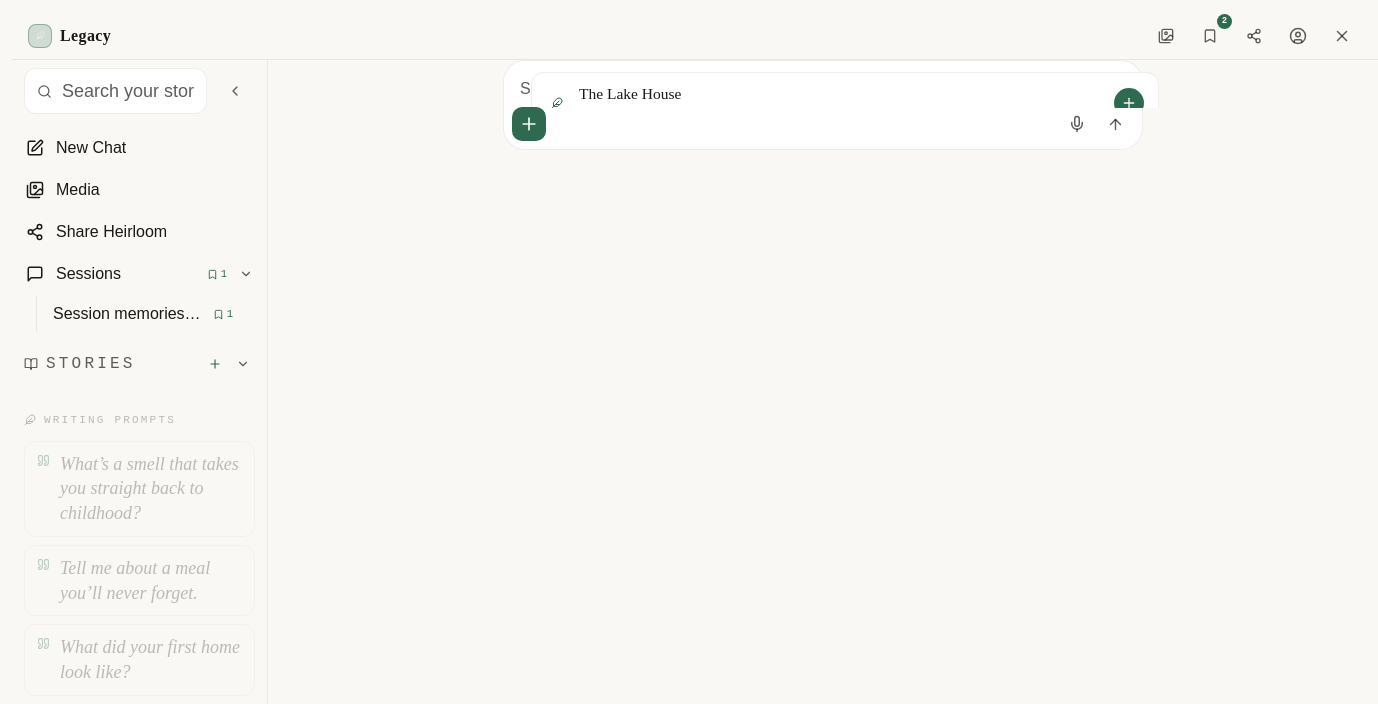
Scenario: Session memories panel — desktop › opening Media closes the session memories panel, and opening the session memories panel closes Media
(page scrolled)
Click the button named "Memories from this chat" at [1210, 36], box [1190,16,1230,56]
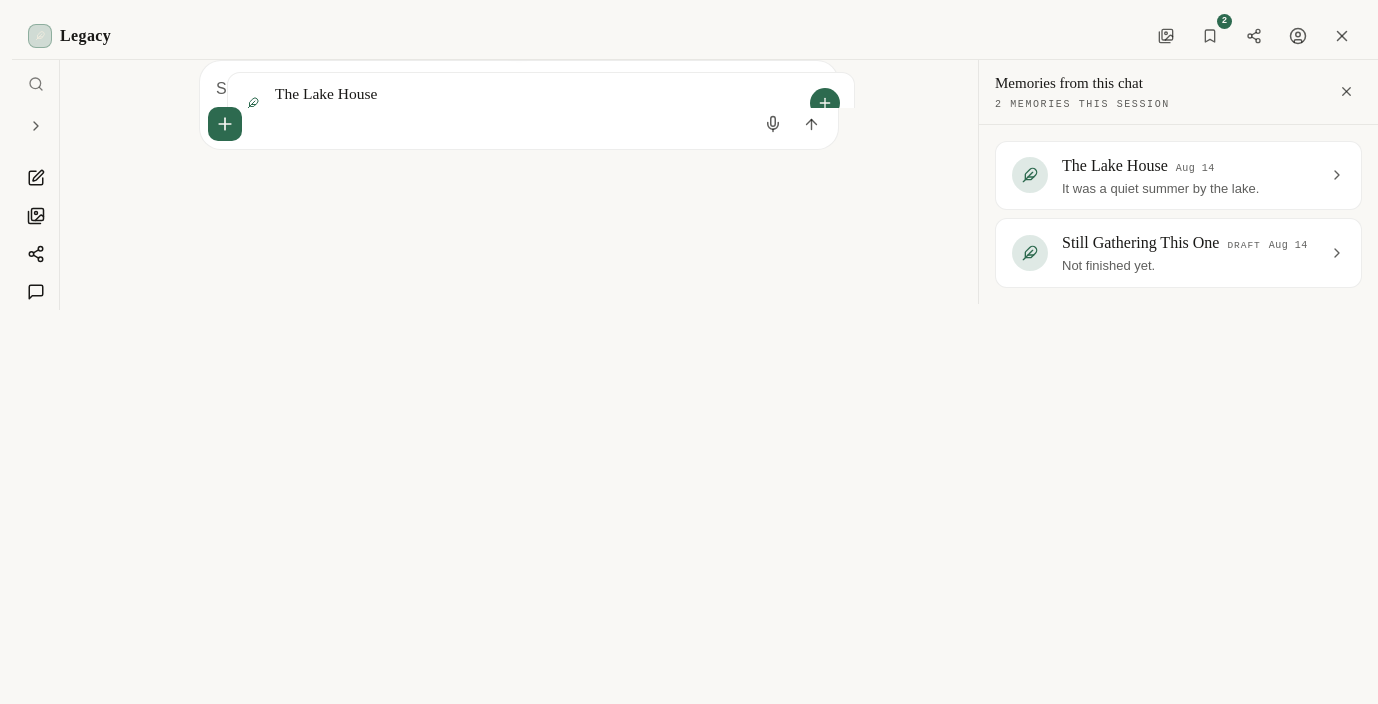
Check: the heading "Memories from this chat" is shown, box [995,75,1143,91]
Click the button named "Media from this chat" at [1166, 36], box [1146,16,1186,56]
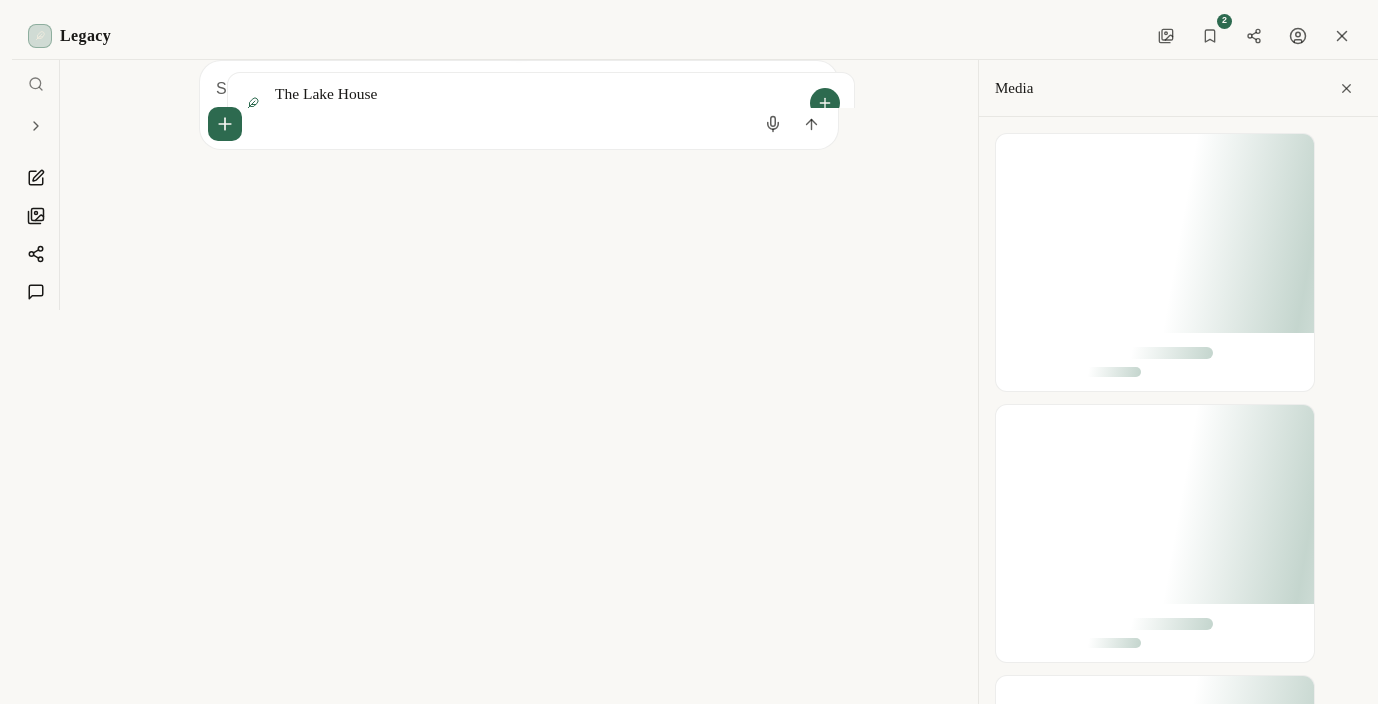
Check: the heading "Media" is shown, box [995,77,1033,99]
Check: the heading "Memories from this chat" is gone
Click the button named "Memories from this chat" at [1210, 36], box [1190,16,1230,56]
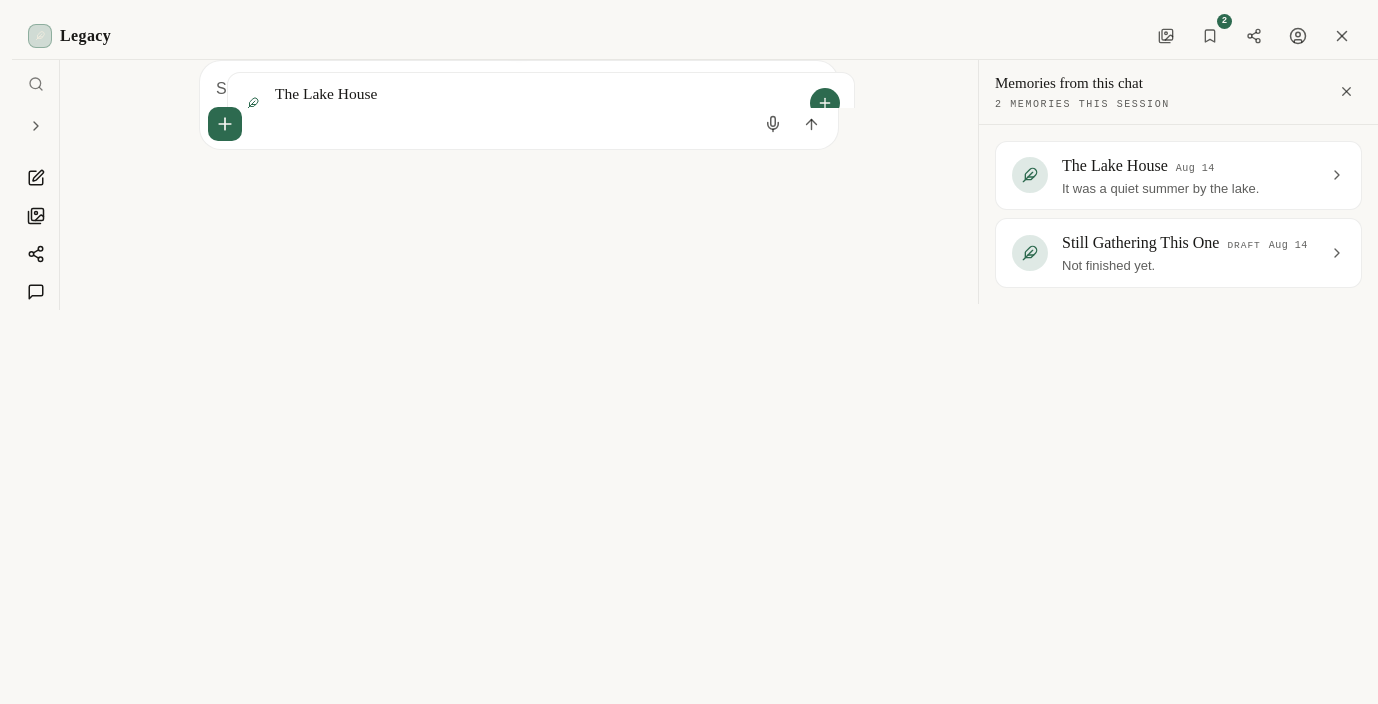
Check: the heading "Memories from this chat" is shown, box [995,75,1143,91]
Check: the heading "Media" is gone
